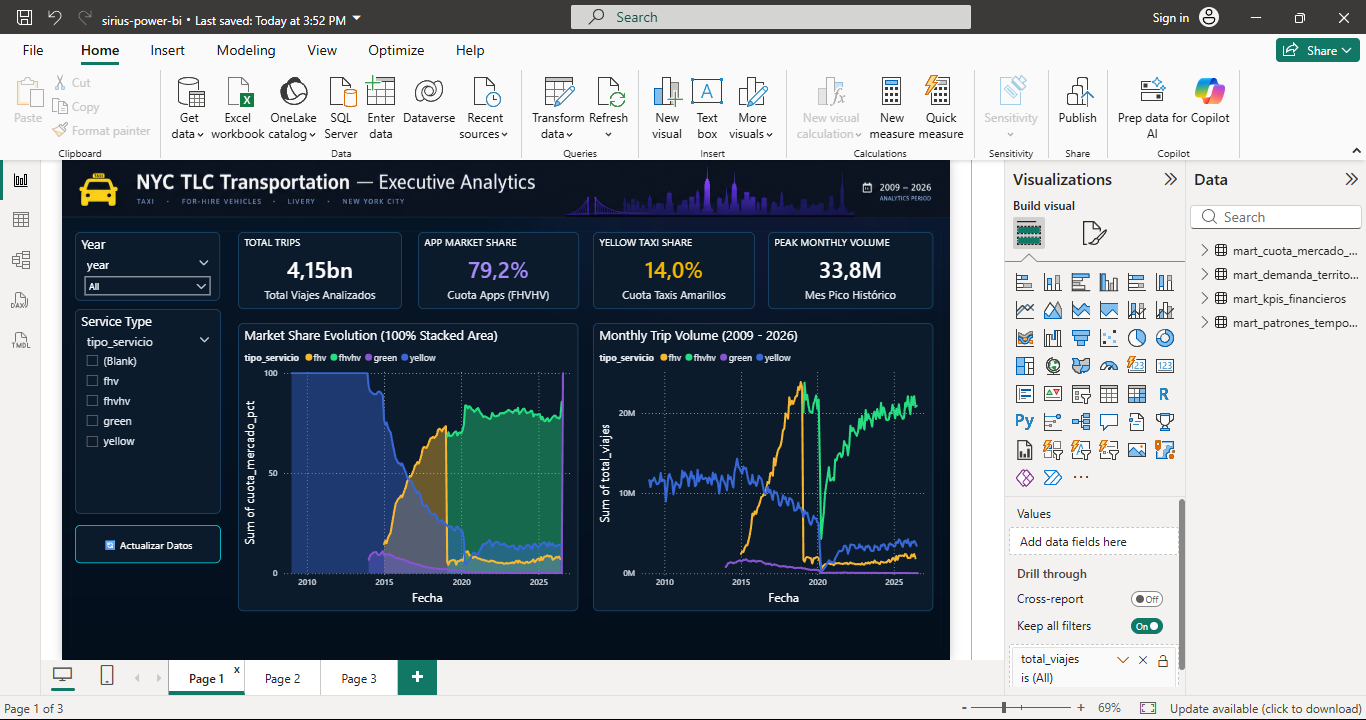

What the dashboard file says about the page in this screenshot:
{"tool":"powerbi","page":{"name":"Page 1","canvas":[1280,720],"ordinal":0},"visuals":[{"type":"card","title":"TOTAL TRIPS","fields":{"Values":["mart_cuota_mercado_mensual.Total Viajes Analizados"]},"box":[253.4,103.7,236.2,110.9],"z":0},{"type":"card","title":"APP MARKET SHARE","fields":{"Values":["mart_cuota_mercado_mensual.Cuota Apps (FHVHV)"]},"box":[512.6,103.7,231.8,110.9],"z":2},{"type":"card","title":"YELLOW TAXI SHARE","fields":{"Values":["mart_cuota_mercado_mensual.Cuota Taxis Amarillos"]},"box":[764.6,103.7,233.3,110.9],"z":3},{"type":"card","title":"PEAK MONTHLY VOLUME","fields":{"Values":["mart_cuota_mercado_mensual.Mes Pico Histórico"]},"box":[1016.6,103.7,237.6,110.9],"z":4},{"type":"slicer","title":"Year","fields":{"Values":["mart_cuota_mercado_mensual.anio"]},"box":[18.7,103.7,208.8,99.4],"z":10},{"type":"slicer","title":"Service Type","fields":{"Values":["mart_cuota_mercado_mensual.tipo_servicio"]},"box":[18,215,210,295],"z":11},{"type":"areaChart","title":"Market Share Evolution (100% Stacked Area)","fields":{"Category":["mart_cuota_mercado_mensual.Fecha"],"Series":["mart_cuota_mercado_mensual.tipo_servicio"],"Y":["Sum(mart_cuota_mercado_mensual.cuota_mercado_pct)"]},"box":[253.4,235,490,415],"z":12},{"type":"lineChart","title":"Monthly Trip Volume (2009 - 2026)","fields":{"Category":["mart_cuota_mercado_mensual.Fecha"],"Series":["mart_cuota_mercado_mensual.tipo_servicio"],"Y":["Sum(mart_cuota_mercado_mensual.total_viajes)"]},"box":[764.6,235,490,415],"z":13},{"type":"actionButton","box":[18,525,210,55],"z":15}]}

Visuals, with their boxes on the page's 1280x720 design canvas (x1, y1, x2, y2). These are canvas units, not pixel positions in the 1366x720 screenshot, which may show the page scaled, cropped or inside an application window:
"TOTAL TRIPS" card: bbox(253, 104, 490, 215)
"APP MARKET SHARE" card: bbox(513, 104, 744, 215)
"YELLOW TAXI SHARE" card: bbox(765, 104, 998, 215)
"PEAK MONTHLY VOLUME" card: bbox(1017, 104, 1254, 215)
"Year" slicer: bbox(19, 104, 228, 203)
"Service Type" slicer: bbox(18, 215, 228, 510)
"Market Share Evolution (100% Stacked Area)" areaChart: bbox(253, 235, 743, 650)
"Monthly Trip Volume (2009 - 2026)" lineChart: bbox(765, 235, 1255, 650)
actionButton: bbox(18, 525, 228, 580)
